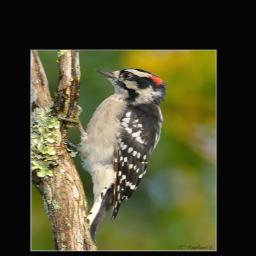Woodpecker: (61, 68, 170, 245)
